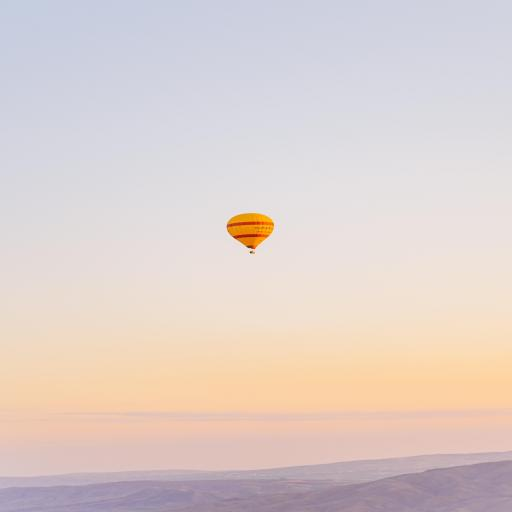hot air ballon: (226, 207, 274, 257)
